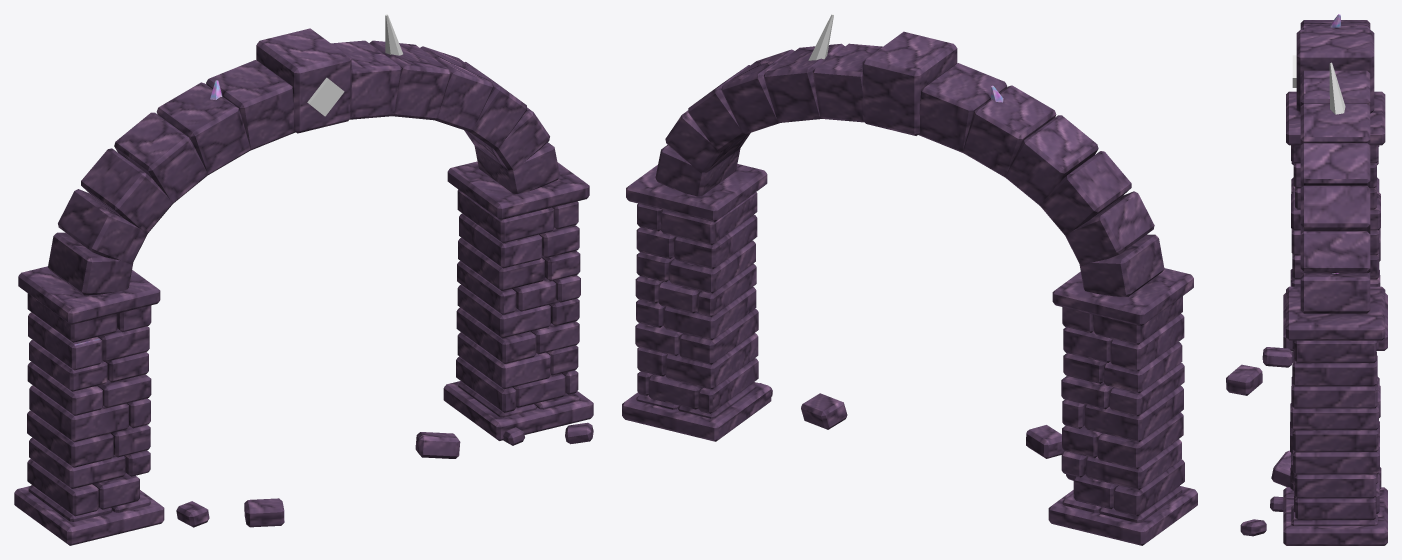
File: mapkit_arch_crystal.fbx
3 views of the same model, side by side, from view 1: azimuth 30°, elevation 25°; view 2: azimuth 150°, elevation 25°; view 3: azimuth 270°, elevation 25° (orthographic). The views are drawn at different scales.
Parts seen in each view (by area): view 1: Body, c_115_230_255; view 2: Body; view 3: Body, c_115_230_255.
Part boxes in pixels (bbox=[...]): Body: bbox=[14, 28, 593, 545]; c_115_230_255: bbox=[307, 14, 402, 116]; Body: bbox=[622, 31, 1197, 545]; Body: bbox=[1226, 14, 1387, 545]; c_115_230_255: bbox=[1292, 55, 1345, 114].
Bounding box in the file's own units: 2110 × 1670 × 602.
1 material, 1 textured.
